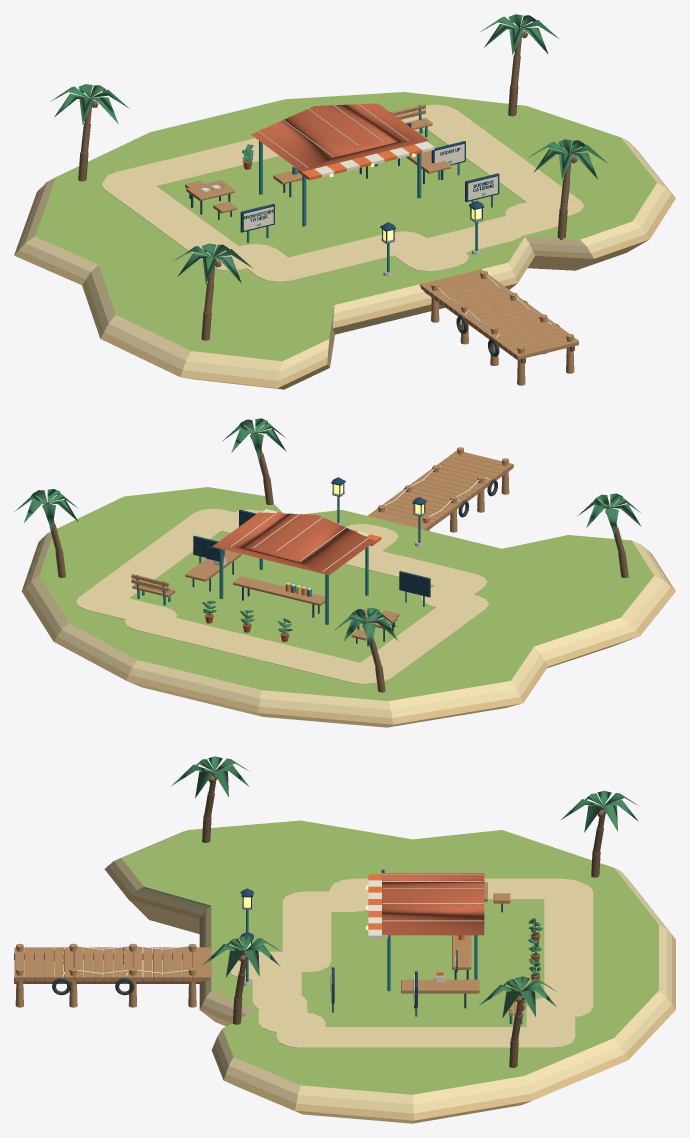
The model's file is catering.glb.
The picture shows the model from 3 angles, top to bottom: view 1: azimuth 30°, elevation 25°; view 2: azimuth 150°, elevation 25°; view 3: azimuth 270°, elevation 25°; orthographic projection. The views are drawn at different scales.
Parts seen in each view (by area): view 1: static_grass, static_sand, static_wood, static_sandEdge, occluder_catering_canopy_terracotta, occluder_catering_tree_16_leaf, occluder_catering_tree_12_leaf, occluder_catering_tree_4_leaf, occluder_catering_tree_8_leaf, occluder_catering_canopy_ivory, static_teal, occluder_catering_canopy_orange (+5 smaller); view 2: static_grass, static_sand, static_wood, static_sandEdge, occluder_catering_canopy_terracotta, static_teal, occluder_catering_tree_4_leaf, occluder_catering_tree_16_leaf, occluder_catering_tree_12_leaf, occluder_catering_tree_8_leaf, station_services_navy, static_navy; view 3: static_grass, static_sand, static_wood, static_sandEdge, occluder_catering_canopy_terracotta, occluder_catering_canopy_ivory, occluder_catering_tree_8_leaf, occluder_catering_tree_12_leaf, occluder_catering_tree_4_leaf, occluder_catering_tree_16_leaf, static_darkWood, static_teal (+4 smaller).
Boxes of the visible parts, bbox=[...] form: static_grass: bbox=[35, 92, 656, 361]; static_sand: bbox=[19, 104, 671, 380]; static_wood: bbox=[185, 104, 578, 385]; static_sandEdge: bbox=[14, 147, 675, 389]; occluder_catering_canopy_terracotta: bbox=[251, 103, 428, 171]; occluder_catering_tree_16_leaf: bbox=[530, 139, 609, 179]; occluder_catering_tree_12_leaf: bbox=[480, 14, 558, 54]; occluder_catering_tree_4_leaf: bbox=[174, 243, 252, 283]; occluder_catering_tree_8_leaf: bbox=[50, 84, 130, 124]; occluder_catering_canopy_ivory: bbox=[258, 104, 434, 177]; static_teal: bbox=[259, 105, 477, 272]; occluder_catering_canopy_orange: bbox=[299, 144, 422, 180]; static_grass: bbox=[39, 487, 653, 700]; static_sand: bbox=[26, 508, 670, 717]; static_wood: bbox=[131, 447, 513, 640]; static_sandEdge: bbox=[21, 539, 675, 727]; occluder_catering_canopy_terracotta: bbox=[212, 512, 375, 574]; static_teal: bbox=[136, 496, 420, 624]; occluder_catering_tree_4_leaf: bbox=[577, 493, 641, 535]; occluder_catering_tree_16_leaf: bbox=[223, 418, 286, 460]; occluder_catering_tree_12_leaf: bbox=[14, 489, 78, 530]; occluder_catering_tree_8_leaf: bbox=[334, 607, 398, 649]; station_services_navy: bbox=[399, 571, 430, 597]; static_navy: bbox=[192, 477, 426, 646]; static_grass: bbox=[122, 820, 658, 1094]; static_sand: bbox=[108, 830, 671, 1113]; static_wood: bbox=[14, 882, 525, 1015]; static_sandEdge: bbox=[104, 865, 675, 1123]; occluder_catering_canopy_terracotta: bbox=[382, 873, 484, 935]; occluder_catering_canopy_ivory: bbox=[368, 874, 483, 938]; occluder_catering_tree_8_leaf: bbox=[560, 790, 638, 832]; occluder_catering_tree_12_leaf: bbox=[478, 976, 556, 1017]; occluder_catering_tree_4_leaf: bbox=[171, 756, 249, 797]; occluder_catering_tree_16_leaf: bbox=[201, 935, 280, 977]; static_darkWood: bbox=[14, 933, 539, 983]; static_teal: bbox=[246, 874, 523, 1024].
Bounding box in the file's own units: 29 × 5.54 × 27.8.
